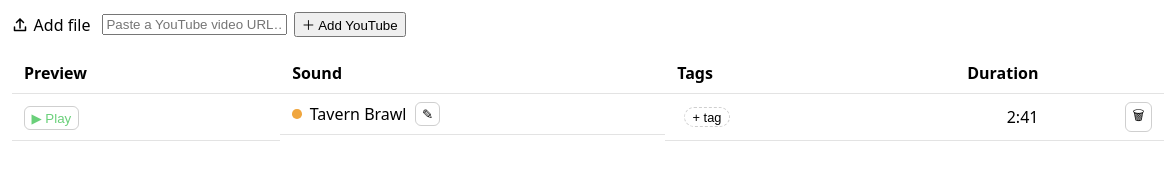
Test case: progress advances on the playing row as the player reports it
Check: the text "Tavern Brawl" is shown, box left=310, top=102, right=406, bottom=126
Click the button "▶ Play" at (51, 118), box left=24, top=106, right=79, bottom=130
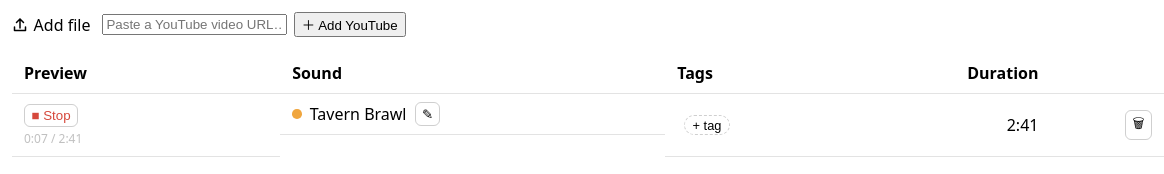
Check: the button "■ Stop" is shown, box left=24, top=104, right=78, bottom=127
Check: the text "0:07 / 2:41" is shown, box left=24, top=130, right=82, bottom=147
